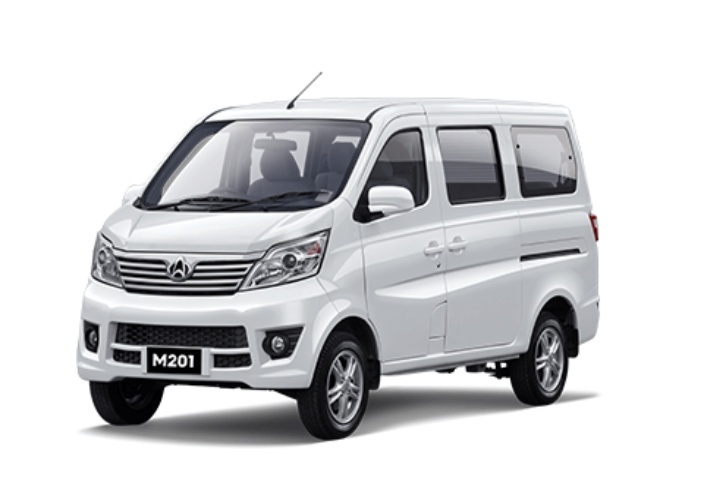van: (84, 76, 619, 434)
